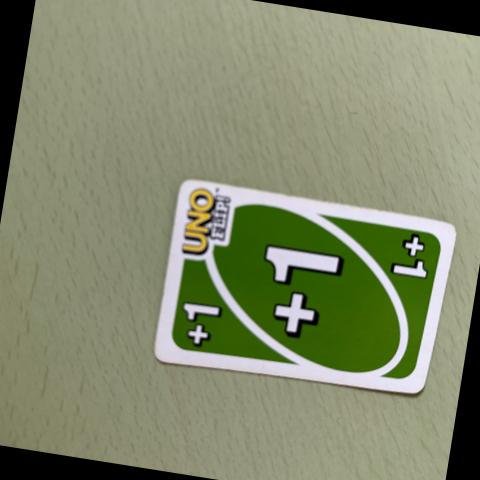lgreen-10: (162, 278, 238, 364)
